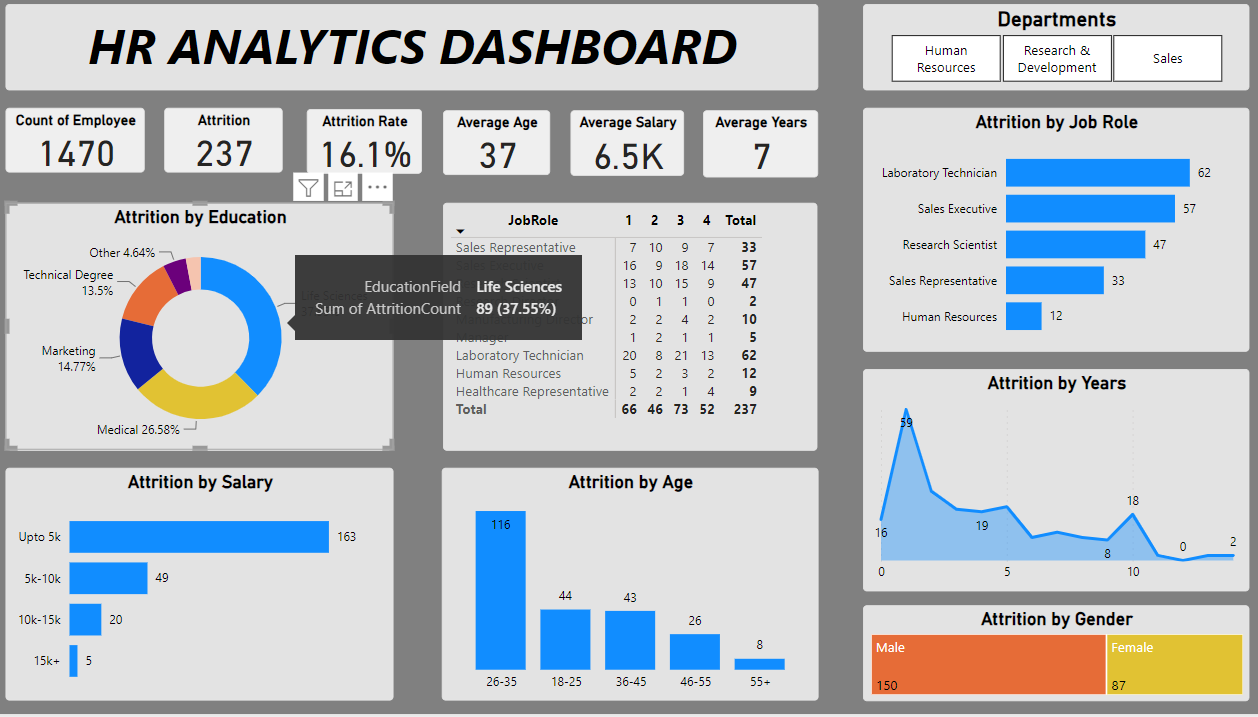

What the dashboard file says about the page in this screenshot:
{"tool":"powerbi","page":{"name":"Page 1","canvas":[1280,720],"ordinal":0},"visuals":[{"type":"card","title":"Count of Employee","fields":{"Values":["CountNonNull(HR_Analytics.EmpID)"]},"box":[17,113.8,139.4,64.9],"z":0},{"type":"card","title":"Attrition","fields":{"Values":["Sum(HR_Analytics.AttritionCount)"]},"box":[176.6,113.8,118.1,64.9],"z":1000},{"type":"card","title":"Attrition Rate","fields":{"Values":["HR_Analytics.AttritionRate"]},"box":[319.1,114.9,114.9,64.9],"z":2000},{"type":"card","title":"Average Age ","fields":{"Values":["Avg(HR_Analytics.Age)"]},"box":[455.3,116,107.4,64.9],"z":3000},{"type":"card","title":"Average Salary","fields":{"Values":["Avg(HR_Analytics.MonthlyIncome)"]},"box":[583,116,113.8,66],"z":4000},{"type":"card","title":"Average Years ","fields":{"Values":["Avg(HR_Analytics.YearsAtCompany)"]},"box":[714.9,116,114.9,67],"z":5000},{"type":"donutChart","title":"Attrition by Education","fields":{"Category":["HR_Analytics.EducationField"],"Y":["Sum(HR_Analytics.AttritionCount)"]},"box":[17,208.5,388.3,247.9],"z":6000},{"type":"columnChart","title":"Attrition by Age","fields":{"Category":["HR_Analytics.AgeGroup"],"Y":["Sum(HR_Analytics.AttritionCount)"]},"box":[453.2,473.4,376.6,233],"z":7000},{"type":"pivotTable","fields":{"Rows":["HR_Analytics.JobRole"],"Columns":["HR_Analytics.JobSatisfaction"],"Values":["Sum(HR_Analytics.AttritionCount)"]},"box":[455.3,208.5,374.5,247.9],"z":8000},{"type":"barChart","title":"Attrition by Salary","fields":{"Category":["HR_Analytics.SalarySlab"],"Y":["Sum(HR_Analytics.AttritionCount)"]},"box":[17,473.4,388.3,233],"z":9000},{"type":"barChart","title":"Attrition by Job Role","fields":{"Category":["HR_Analytics.JobRole"],"Y":["Sum(HR_Analytics.AttritionCount)"]},"box":[875.5,113.8,386.2,243.6],"z":10000},{"type":"areaChart","title":"Attrition by Years","fields":{"Category":["HR_Analytics.YearsAtCompany"],"Y":["Sum(HR_Analytics.AttritionCount)"]},"box":[875,375,386.2,222.5],"z":11000},{"type":"treemap","title":"Attrition by Gender","fields":{"Group":["HR_Analytics.Gender"],"Values":["Sum(HR_Analytics.AttritionCount)"]},"box":[875.5,610.6,386.2,95.7],"z":12000},{"type":"slicer","title":"Departments","fields":{"Values":["HR_Analytics.Department"]},"box":[875.5,9.6,386.2,86.2],"z":13000},{"type":"textbox","box":[17,9.6,812.8,86.2],"z":14000}]}

Visuals, with their boxes in screenshot pixels (x1, y1, x2, y2), scaled from the page's 1280x720 canvas onto the 1258x717 screenshot:
"Count of Employee" card: crop(17, 113, 154, 178)
"Attrition" card: crop(174, 113, 290, 178)
"Attrition Rate" card: crop(314, 114, 427, 179)
"Average Age " card: crop(447, 116, 553, 180)
"Average Salary" card: crop(573, 116, 685, 181)
"Average Years " card: crop(703, 116, 816, 182)
"Attrition by Education" donutChart: crop(17, 208, 398, 454)
"Attrition by Age" columnChart: crop(445, 471, 816, 703)
pivotTable - HR_Analytics.JobRole x HR_Analytics.JobSatisfaction: crop(447, 208, 816, 454)
"Attrition by Salary" barChart: crop(17, 471, 398, 703)
"Attrition by Job Role" barChart: crop(860, 113, 1240, 356)
"Attrition by Years" areaChart: crop(860, 373, 1240, 595)
"Attrition by Gender" treemap: crop(860, 608, 1240, 703)
"Departments" slicer: crop(860, 10, 1240, 95)
textbox: crop(17, 10, 816, 95)
